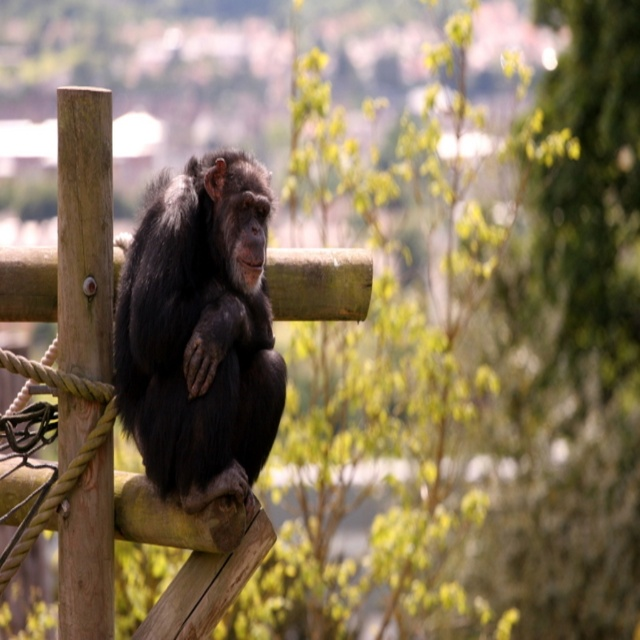Monkey: (105, 134, 290, 563)
